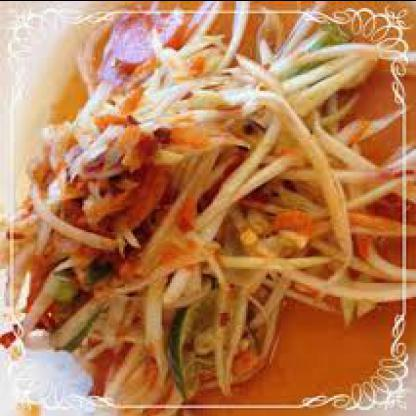Papaya Salad: (13, 1, 415, 407)
